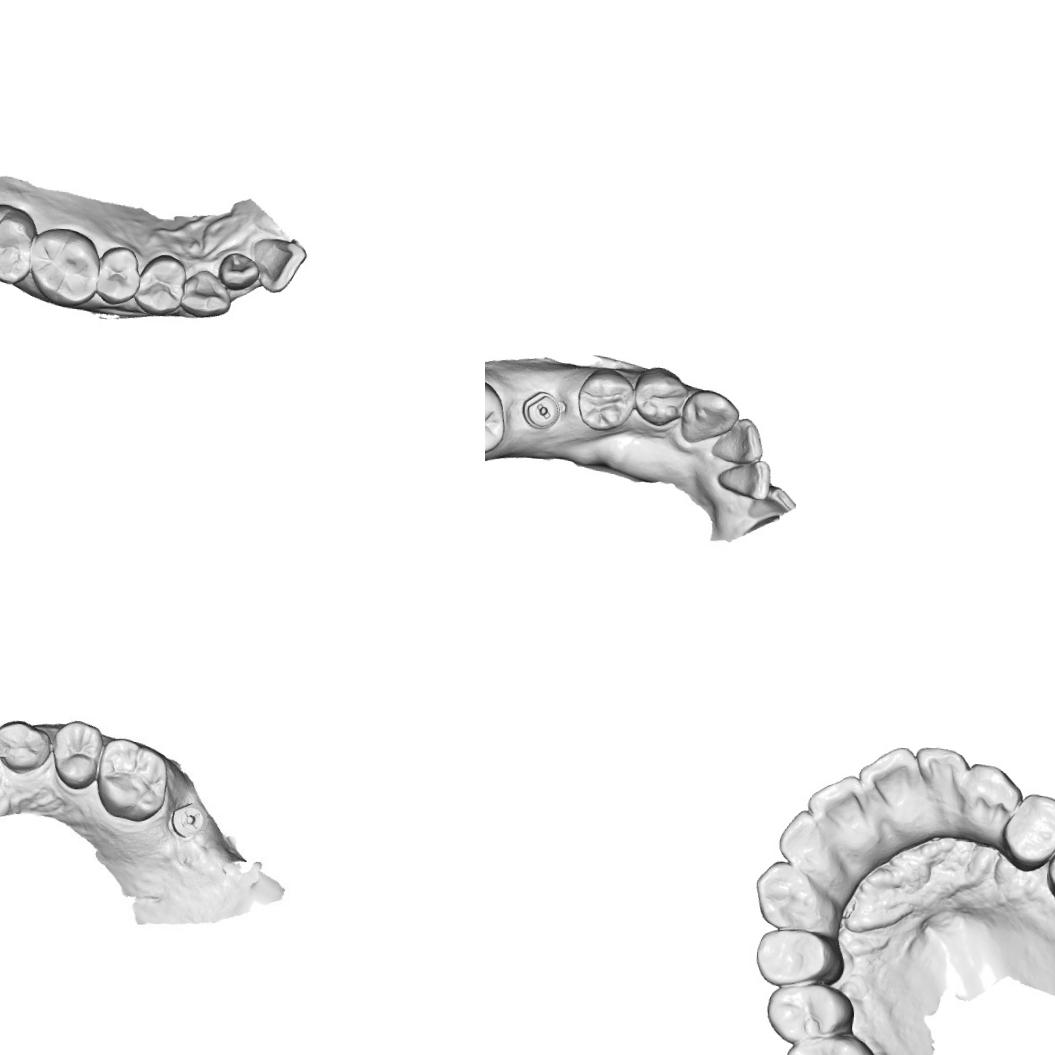canine: (750, 859, 827, 931), (963, 758, 1023, 832), (677, 386, 742, 447), (179, 268, 232, 320)
implant_minus: (518, 387, 567, 434)
implant_plus: (168, 798, 209, 846)
incisor: (804, 768, 872, 836), (858, 744, 924, 804), (910, 740, 972, 803), (248, 235, 308, 295), (775, 806, 828, 872), (710, 413, 767, 464), (713, 456, 772, 502), (746, 482, 798, 524), (216, 249, 260, 291)
molar: (89, 736, 174, 824), (26, 225, 104, 309), (763, 980, 856, 1048), (0, 200, 39, 285), (780, 1031, 886, 1055), (485, 373, 510, 461)
premolar: (751, 926, 846, 988), (47, 715, 108, 793), (998, 790, 1055, 873), (574, 364, 638, 432), (630, 364, 692, 430), (132, 251, 186, 317), (0, 715, 53, 777), (92, 244, 142, 305)
